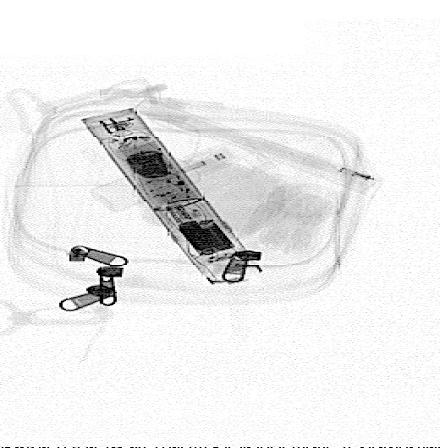Baton: (77, 106, 262, 286)
